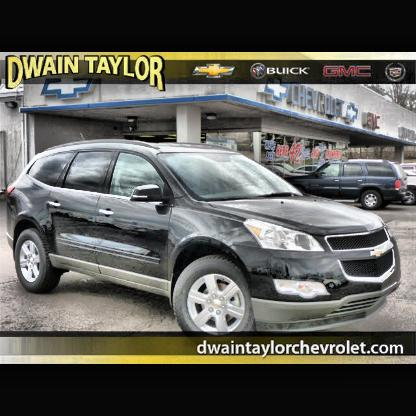Chevrolet Traverse SUV 2012: (5, 137, 410, 346)
